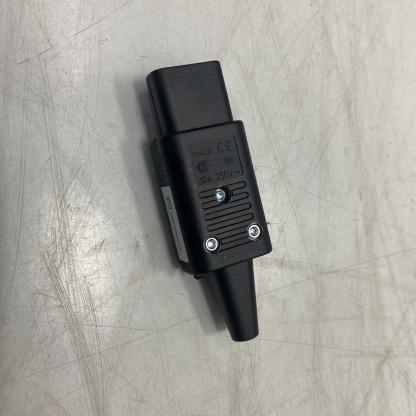SP0000006: (112, 27, 341, 360)
